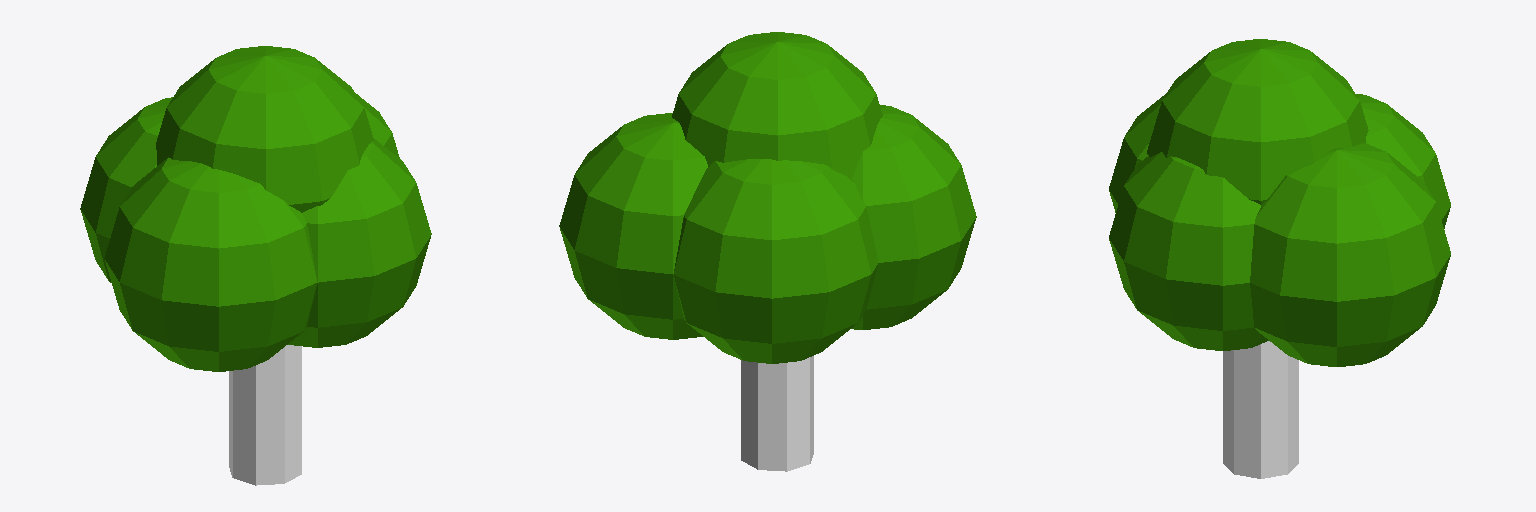
Rendered from Tree.obj.
3 renders of one model, left to right at view 1: azimuth 30°, elevation 25°; view 2: azimuth 150°, elevation 25°; view 3: azimuth 270°, elevation 25°, orthographic.
Visible parts, largest first — view 1: Tree; view 2: Tree; view 3: Tree.
Part boxes in pixels (x1,y1,x2,y2): Tree: (80, 46, 431, 485); Tree: (559, 32, 976, 471); Tree: (1109, 39, 1450, 478).
Size of the model in its own units: 10 by 12 by 9.